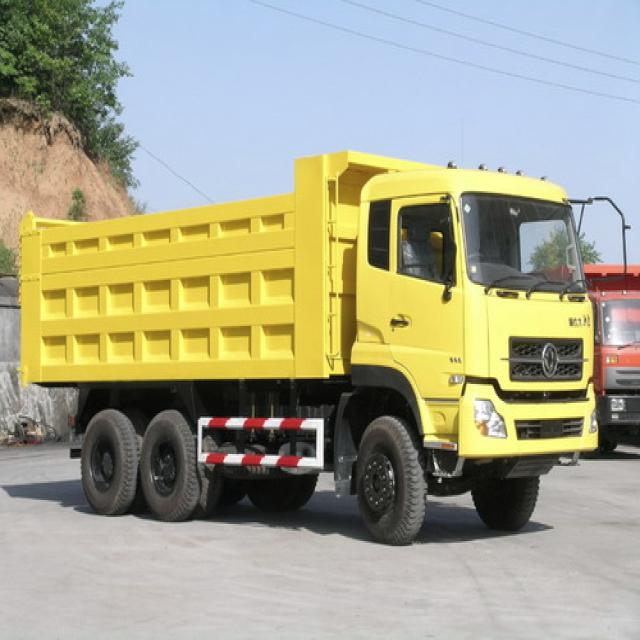truck: (19, 143, 630, 540)
